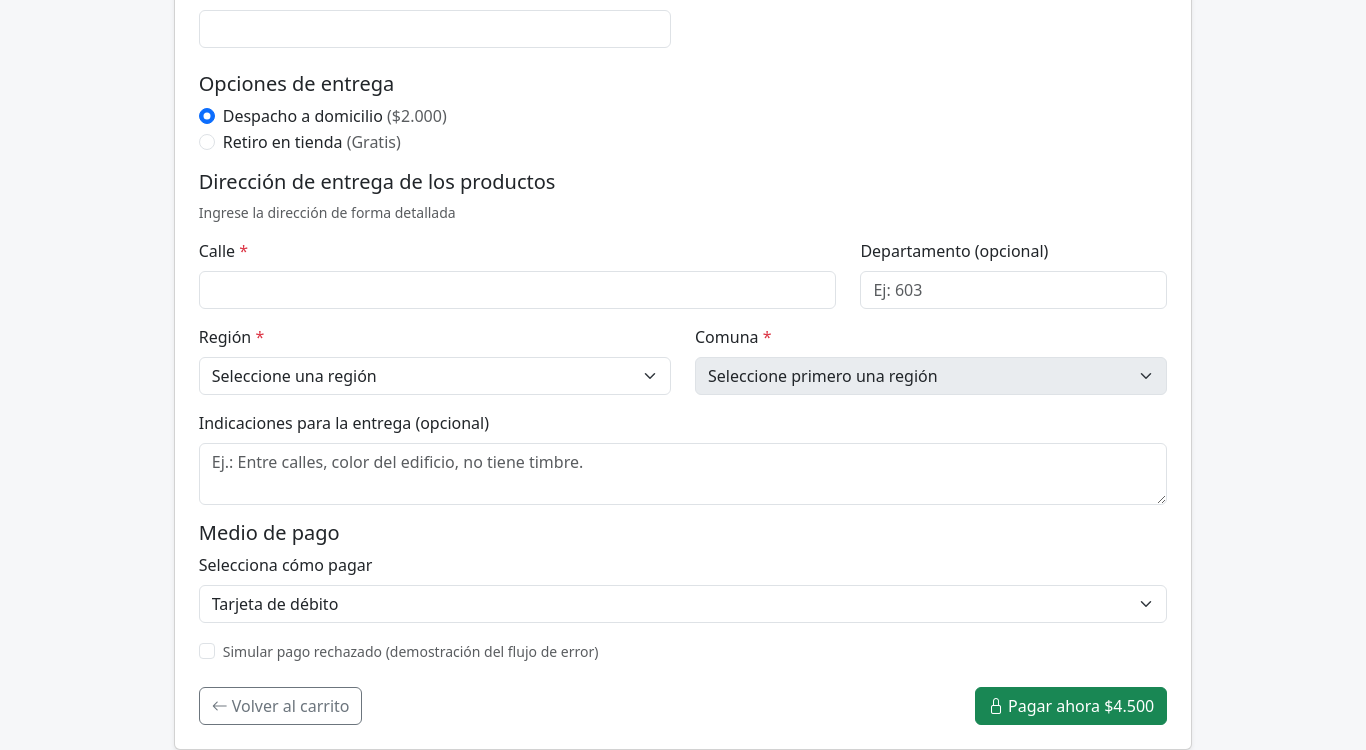
Test case: Página Checkout › muestra errores si faltan datos obligatorios
(page scrolled)
Click the button "Pagar ahora $4.500". click: (1071, 706)
box: [975,687,1167,725]
(page scrolled)
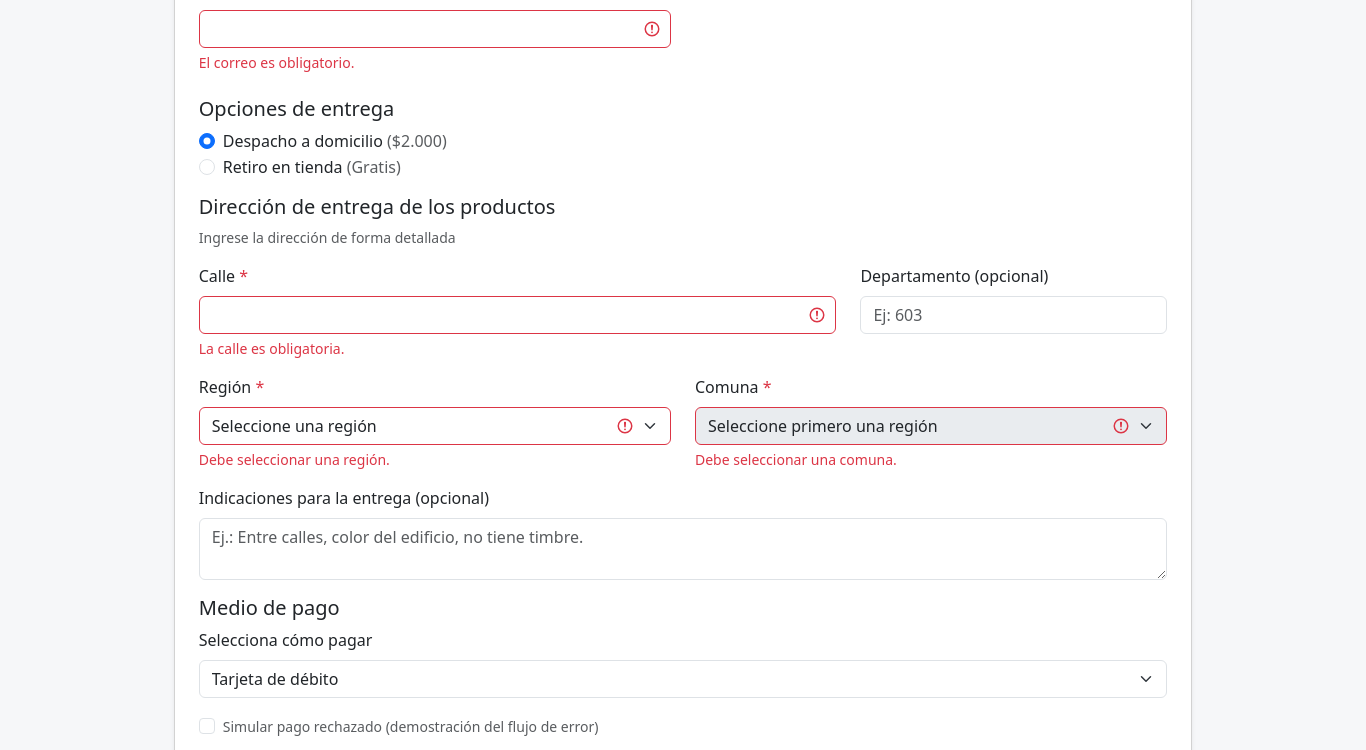
Expected: the text "La calle es obligatoria." is shown, [199,339,344,358]
